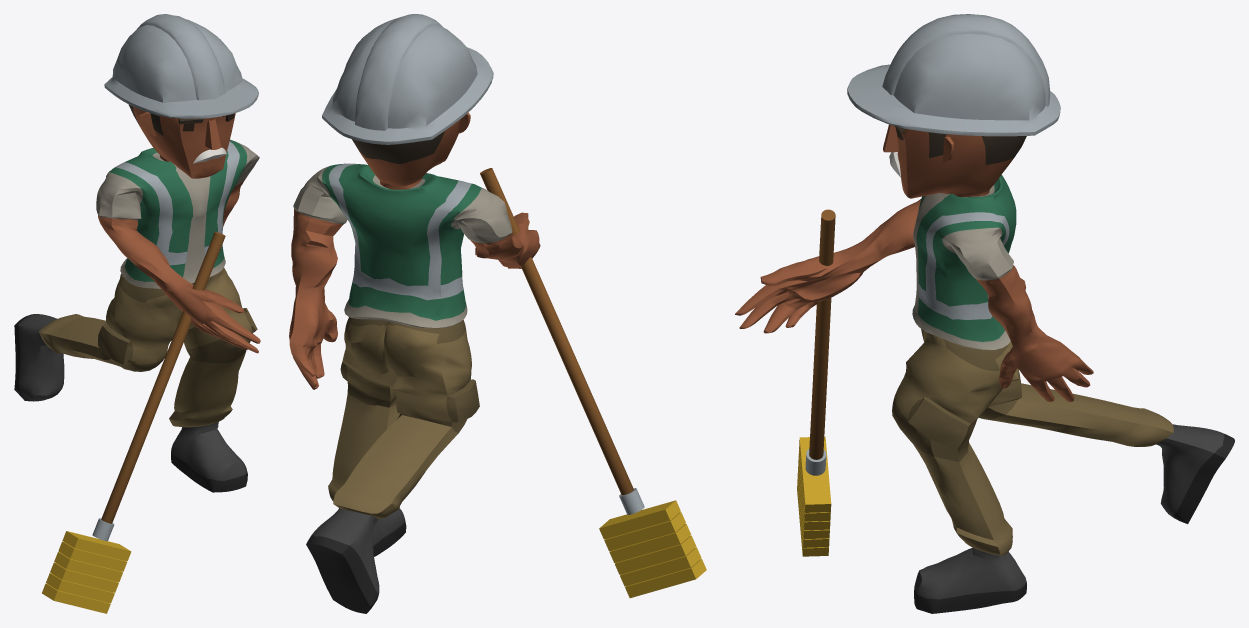
The model's file is av-zelador-estadio.glb.
3 views of the same model, side by side, from view 1: azimuth 30°, elevation 25°; view 2: azimuth 150°, elevation 25°; view 3: azimuth 270°, elevation 25° (orthographic). The views are drawn at different scales.
Parts seen in each view (by area): view 1: Ad_vassoura_0_0; view 2: Ad_vassoura_0_0; view 3: Ad_vassoura_0_0.
Part boxes in pixels (left/top/right/bottom): Ad_vassoura_0_0: left=14, top=14, right=260, bottom=613; Ad_vassoura_0_0: left=289, top=14, right=706, bottom=613; Ad_vassoura_0_0: left=735, top=14, right=1234, bottom=613.
Size of the model in its own units: 0.901 by 1.58 by 1.15.
